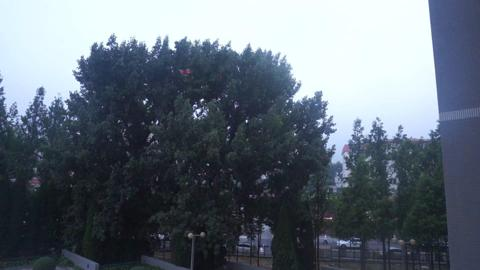UAV: (180, 69, 191, 76)
